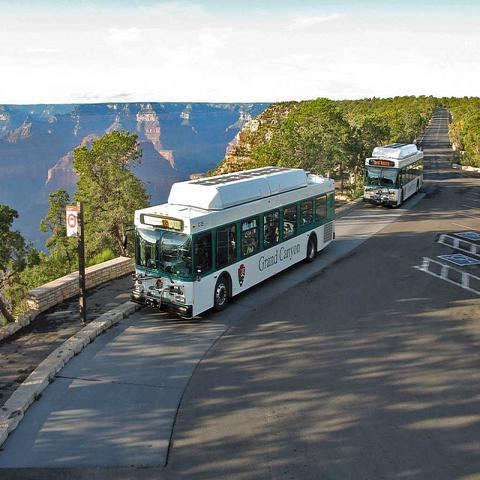bus: (130, 162, 337, 320), (362, 140, 425, 207)
